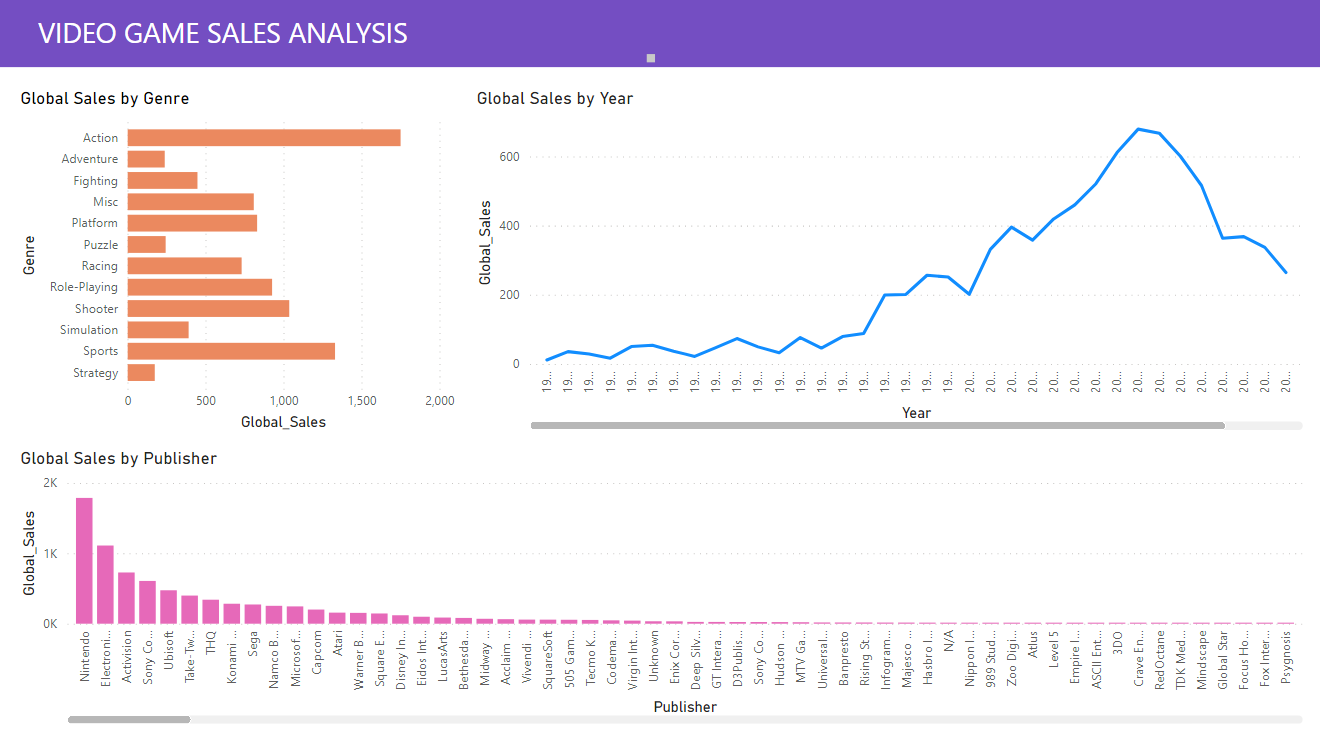

The dashboard page shown, as its layout file describes it:
{"tool":"powerbi","page":{"name":"Page 3","canvas":[1280,720],"ordinal":2},"visuals":[{"type":"barChart","title":"Global Sales by Genre","fields":{"Category":["vgsales.Genre"],"Y":["Sum(vgsales.Global_Sales)"]},"box":[15.7,85.9,430.8,336.4],"z":0},{"type":"shape","box":[0,0,1280.3,66.6],"z":1000},{"type":"textbox","title":"VIDEO GAME SALES ANALYSIS","box":[32.7,13.3,607.5,53.2],"z":2000},{"type":"lineChart","title":"Global Sales by Year","fields":{"Category":["vgsales.Year"],"Y":["Sum(vgsales.Global_Sales)"]},"box":[457.4,85.9,809.5,336.4],"z":3000},{"type":"clusteredColumnChart","title":"Global Sales by Publisher","fields":{"Category":["vgsales.Publisher"],"Y":["Sum(vgsales.Global_Sales)"]},"box":[15.7,434.4,1251.2,272.3],"z":4000}]}

Visuals, with their boxes in screenshot pixels (x1, y1, x2, y2), scaled from the page's 1280x720 canvas onto the 1320x741 screenshot:
"Global Sales by Genre" barChart: rect(16, 88, 460, 435)
shape: rect(0, 0, 1319, 69)
"VIDEO GAME SALES ANALYSIS" textbox: rect(34, 14, 660, 68)
"Global Sales by Year" lineChart: rect(472, 88, 1306, 435)
"Global Sales by Publisher" clusteredColumnChart: rect(16, 447, 1306, 727)
